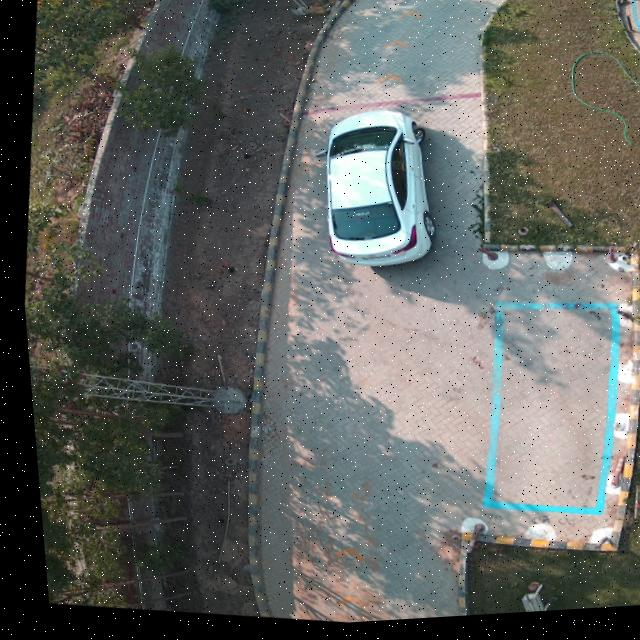car: (314, 113, 430, 270)
